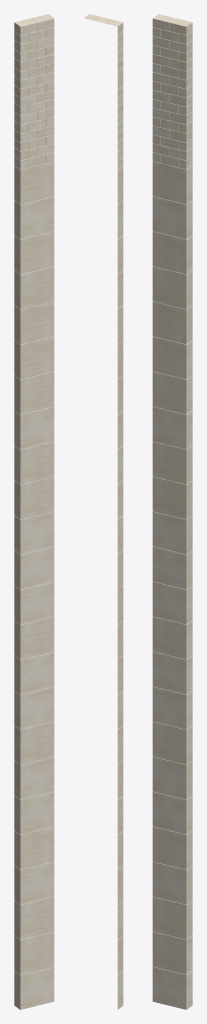
3 renders of one model, left to right at view 1: azimuth 30°, elevation 25°; view 2: azimuth 150°, elevation 25°; view 3: azimuth 330°, elevation 25°, orthographic.
Parts seen in each view (by area): view 1: Mesh_foundation_4; view 2: Mesh_foundation_4; view 3: Mesh_foundation_4.
Boxes of the visible parts, <box> form: Mesh_foundation_4: <box>14,14,54,1009</box>; Mesh_foundation_4: <box>84,14,123,1009</box>; Mesh_foundation_4: <box>152,14,192,1009</box>.
Bounding box in the file's own units: 4 × 110 × 1.2.
Materials: 1 (1 with a texture image).
